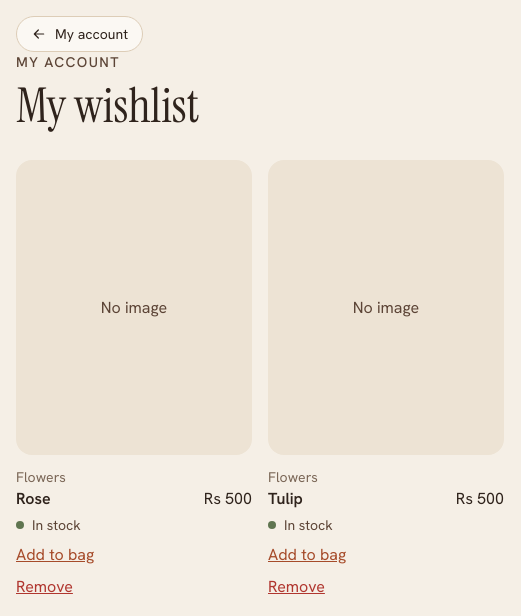
lists wishlist products and removes one
The image size is (521, 616).
Check: the heading "Rose" is shown, box [16, 487, 51, 511]
Click the button with aria-label "Remove Rose from wishlist" at (134, 587), box [16, 575, 252, 599]
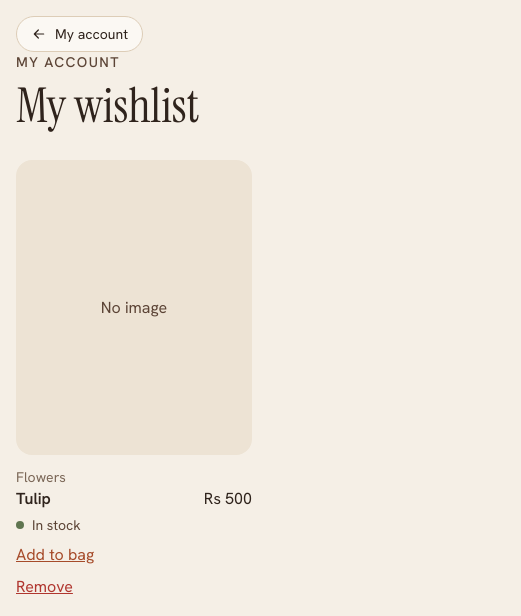
Check: the heading "Tulip" is shown, box [16, 487, 51, 511]
Check: the link "Rose" is gone
